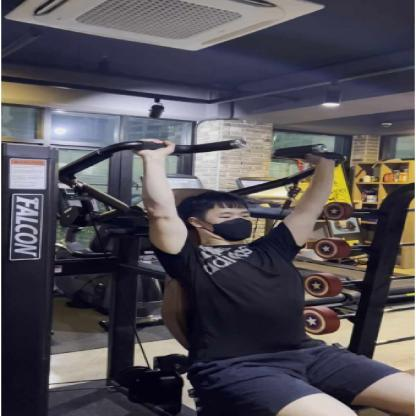shoulder press machine: (5, 113, 416, 416)
